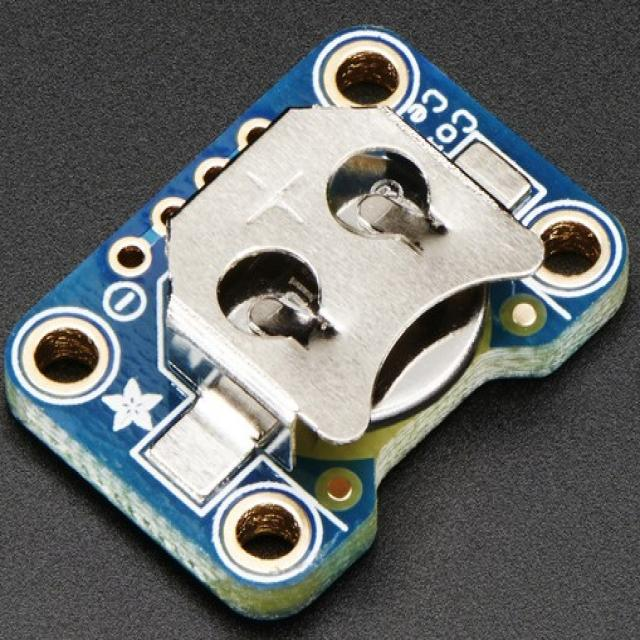battery: (148, 100, 525, 465)
